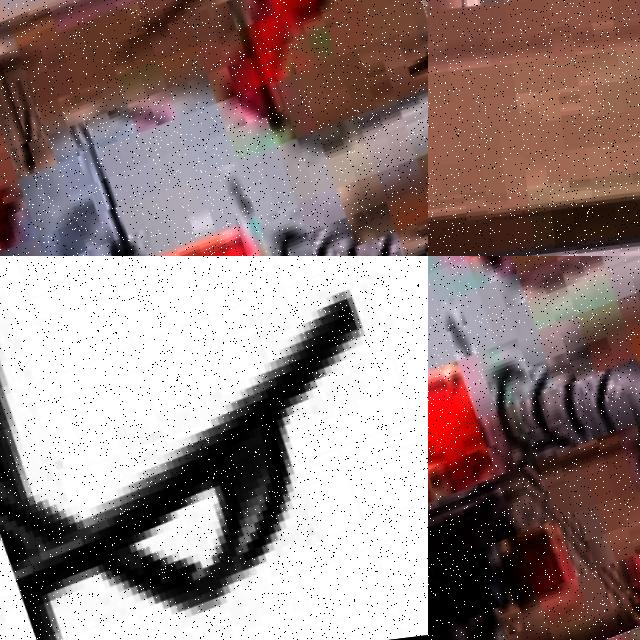drone: (0, 256, 428, 640), (0, 0, 428, 256), (428, 256, 640, 640)
